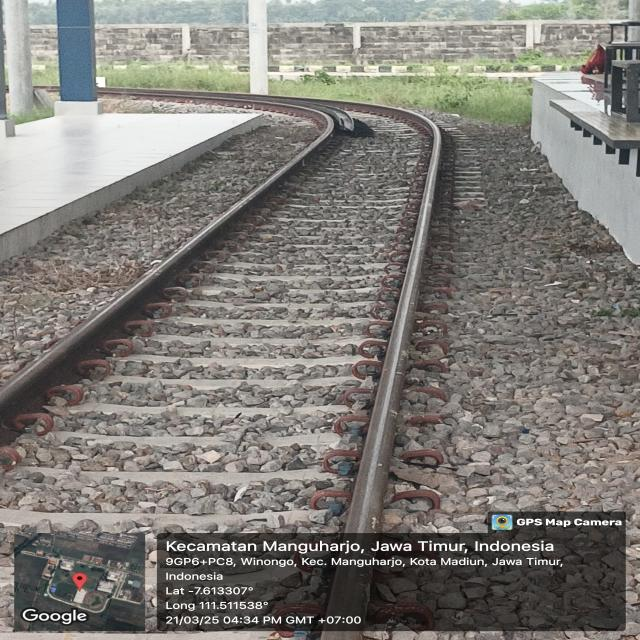rail-detection: (0, 89, 444, 535), (321, 551, 379, 640)
